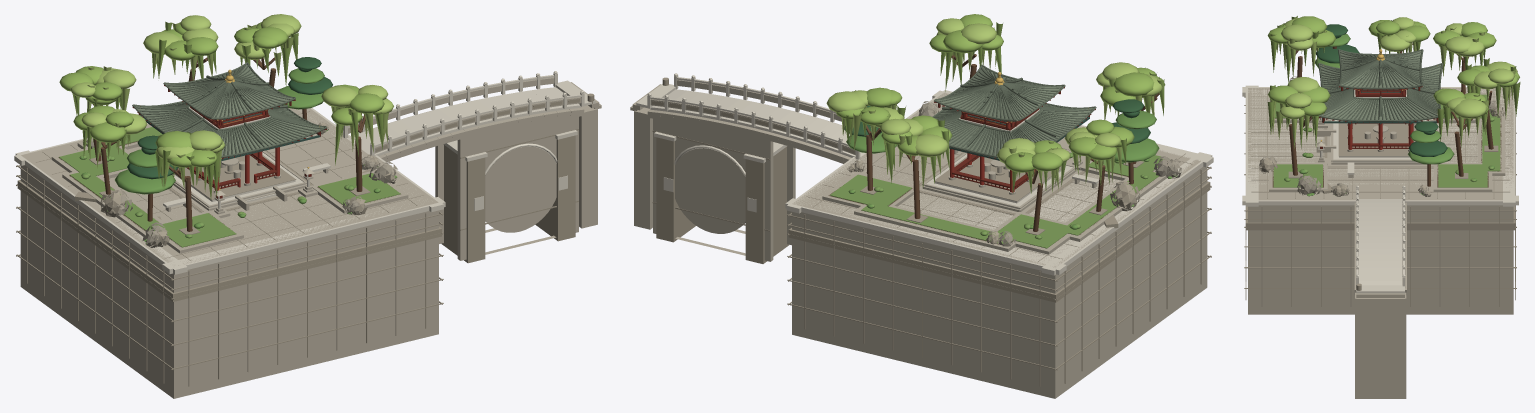
The picture shows the model from 3 angles, left to right: view 1: azimuth 30°, elevation 25°; view 2: azimuth 150°, elevation 25°; view 3: azimuth 270°, elevation 25°; orthographic projection. The views are drawn at different scales.
Size of the model in its own units: 0.351 by 0.1629 by 0.1963.
